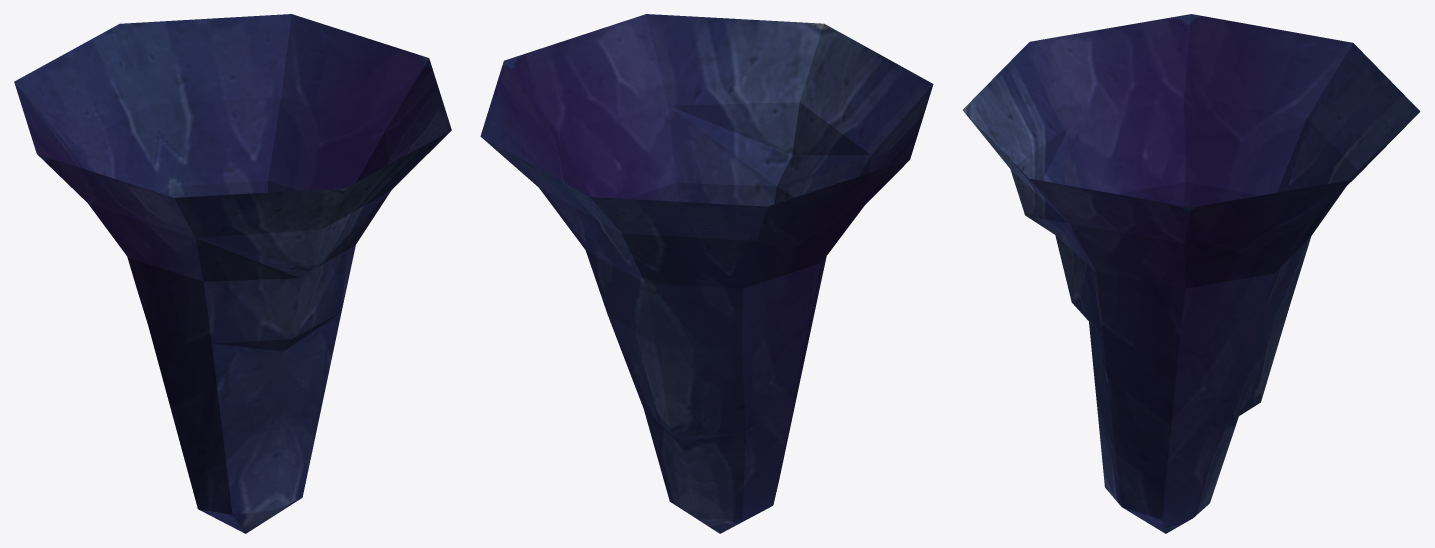
Rendered from scenes_cave_stalagmite01.FBX.
3 renders of one model, left to right at view 1: azimuth 30°, elevation 25°; view 2: azimuth 150°, elevation 25°; view 3: azimuth 270°, elevation 25°, orthographic. The views are drawn at different scales.
Visible parts, largest first — view 1: scenes_cave_stalagmite01; view 2: scenes_cave_stalagmite01; view 3: scenes_cave_stalagmite01.
Part boxes in pixels (box(x1,y1,x2,y2)): scenes_cave_stalagmite01: box(14, 14, 451, 533); scenes_cave_stalagmite01: box(480, 14, 933, 533); scenes_cave_stalagmite01: box(963, 14, 1420, 533).
Bounding box in the file's own units: 346 × 354 × 346.
